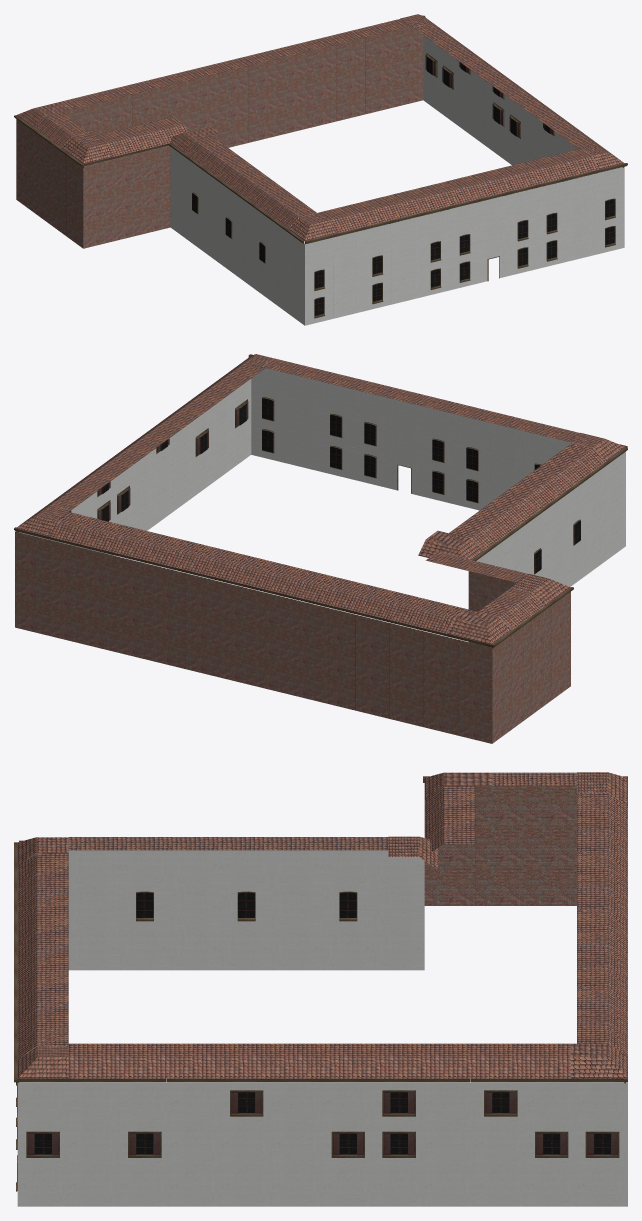
The model's file is house.fbx.
3 renders of one model, top to bottom at view 1: azimuth 30°, elevation 25°; view 2: azimuth 150°, elevation 25°; view 3: azimuth 270°, elevation 25°, orthographic. The views are drawn at different scales.
Parts seen in each view (by area): view 1: Plane.004; view 2: Plane.004; view 3: Plane.004.
Boxes of the visible parts, x1,y1,x2,y2 form: Plane.004: (14, 14, 627, 325); Plane.004: (14, 354, 627, 743); Plane.004: (14, 772, 627, 1206).
Size of the model in its own units: 5480 by 1190 by 4678.
Materials: 2 (2 with a texture image).
